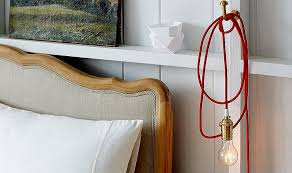bulb: (212, 127, 247, 173)
